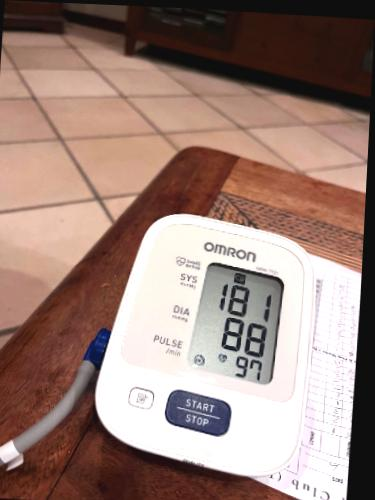bpm: (182, 260, 297, 389)
